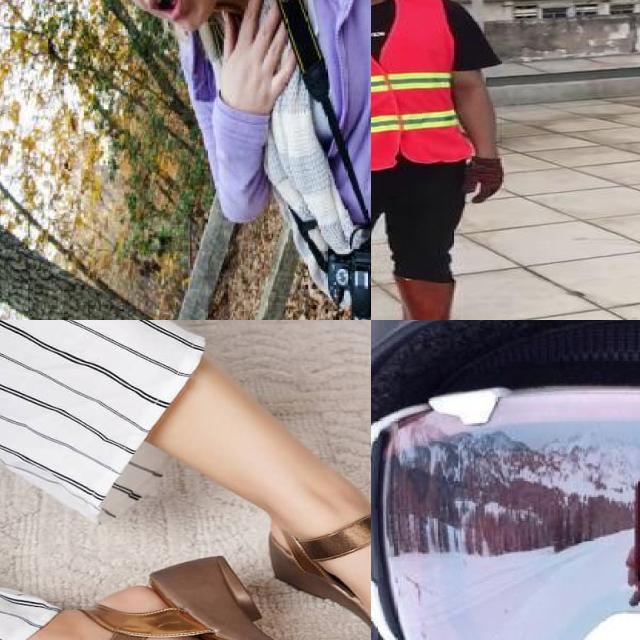Sandals: (60, 555, 356, 640), (269, 494, 371, 640)
boots: (393, 277, 493, 320)
face_nomask: (371, 390, 640, 640)
glasses: (371, 379, 640, 640)
hand_glove: (464, 156, 506, 205)
hand_noglove: (199, 0, 311, 97)
person: (50, 0, 371, 320), (371, 0, 517, 320)
vest: (371, 0, 468, 170)
